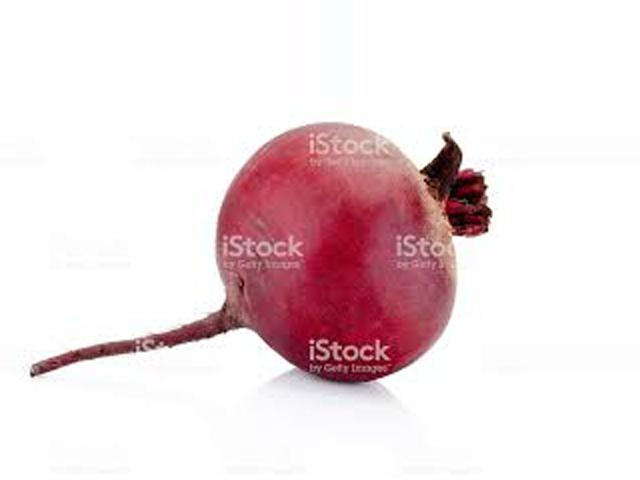beet: (32, 124, 490, 382)
